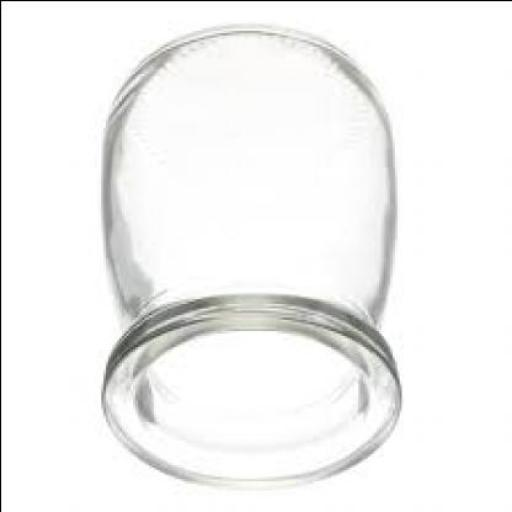glass: (102, 32, 403, 490)
